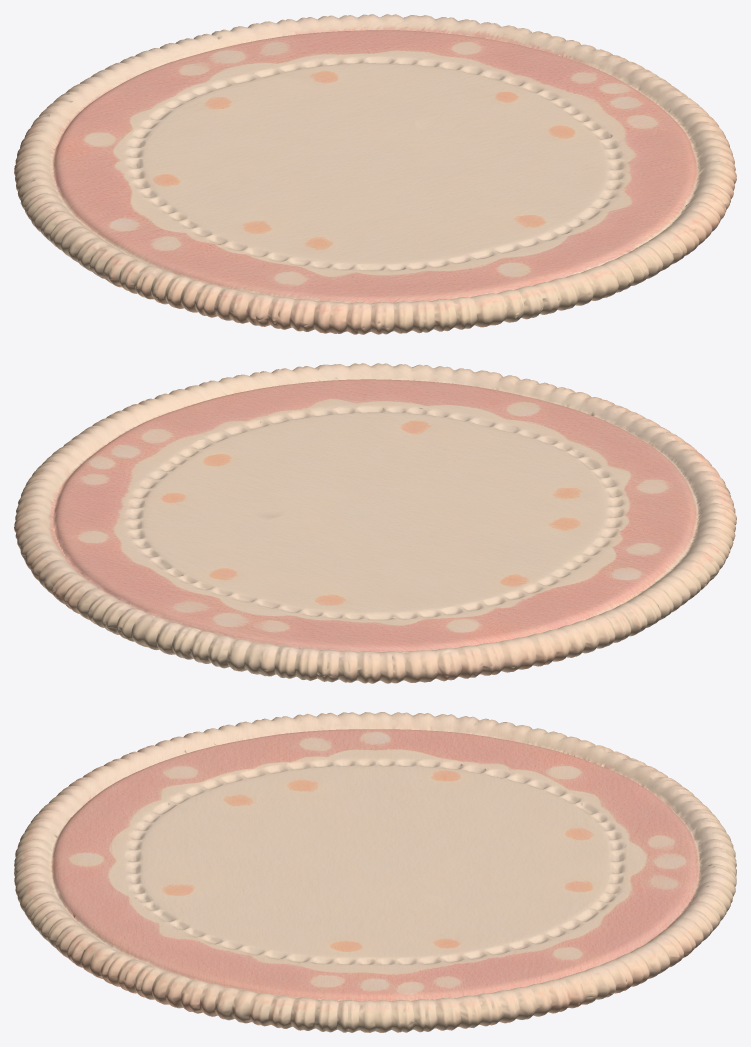
File: vending.glb
3 views of the same model, one above another, from view 1: azimuth 30°, elevation 25°; view 2: azimuth 150°, elevation 25°; view 3: azimuth 270°, elevation 25° (orthographic).
Parts seen in each view (by area): view 1: node_0; view 2: node_0; view 3: node_0.
Boxes of the visible parts, box(x1,y1,x2,y2) form: node_0: box(14, 14, 736, 334); node_0: box(14, 363, 736, 683); node_0: box(14, 712, 736, 1032).
Bounding box in the file's own units: 1.19 × 0.0542 × 1.19.
1 material, 1 textured.
